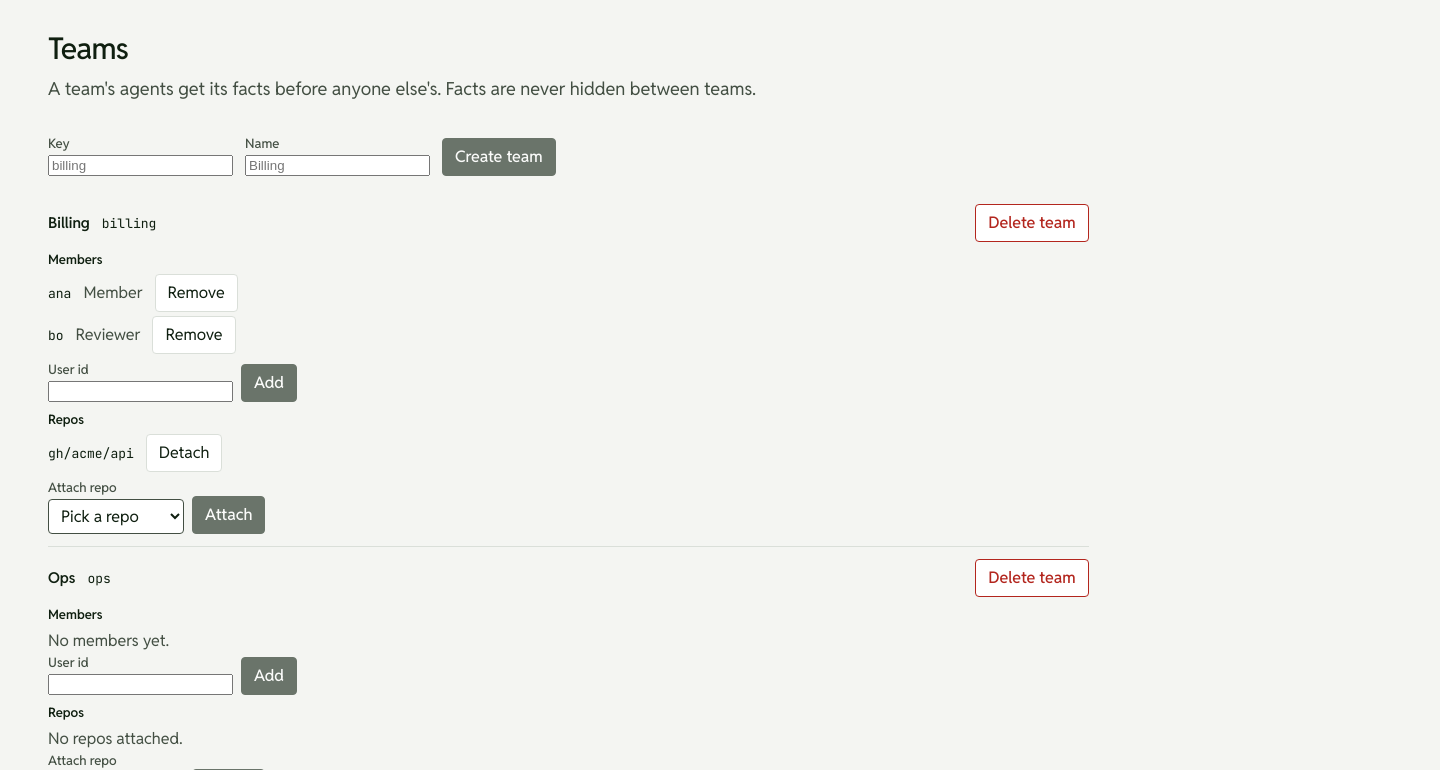
it: teams page › adds a member as a member
Expected: the heading "Billing" is shown, [48,212,90,234]
Type "cy@x" into the field labelled "User id" below "No members yet." at (140, 684), box [48,674,233,695]
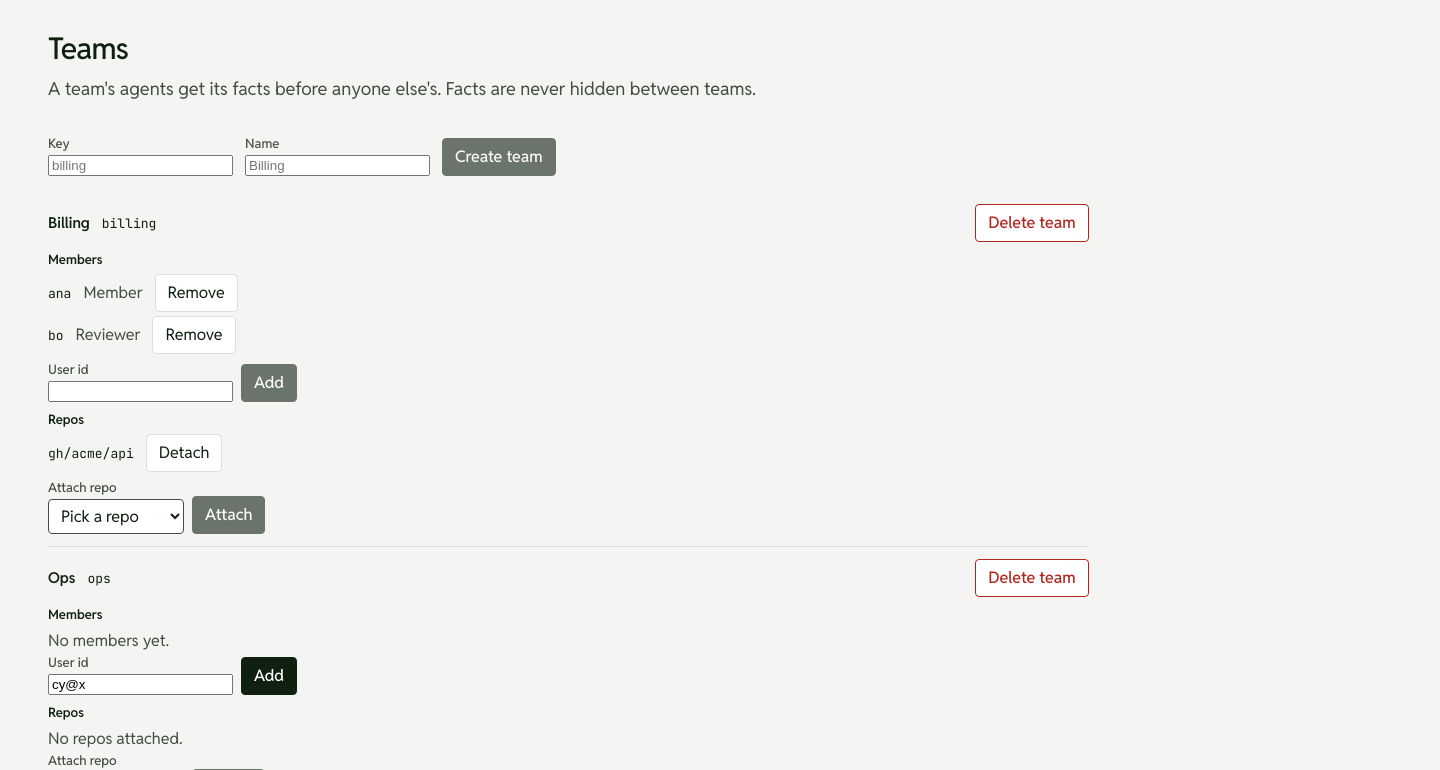
Click the button "Add" below "No members yet." at (269, 676), box [241,657,297,695]
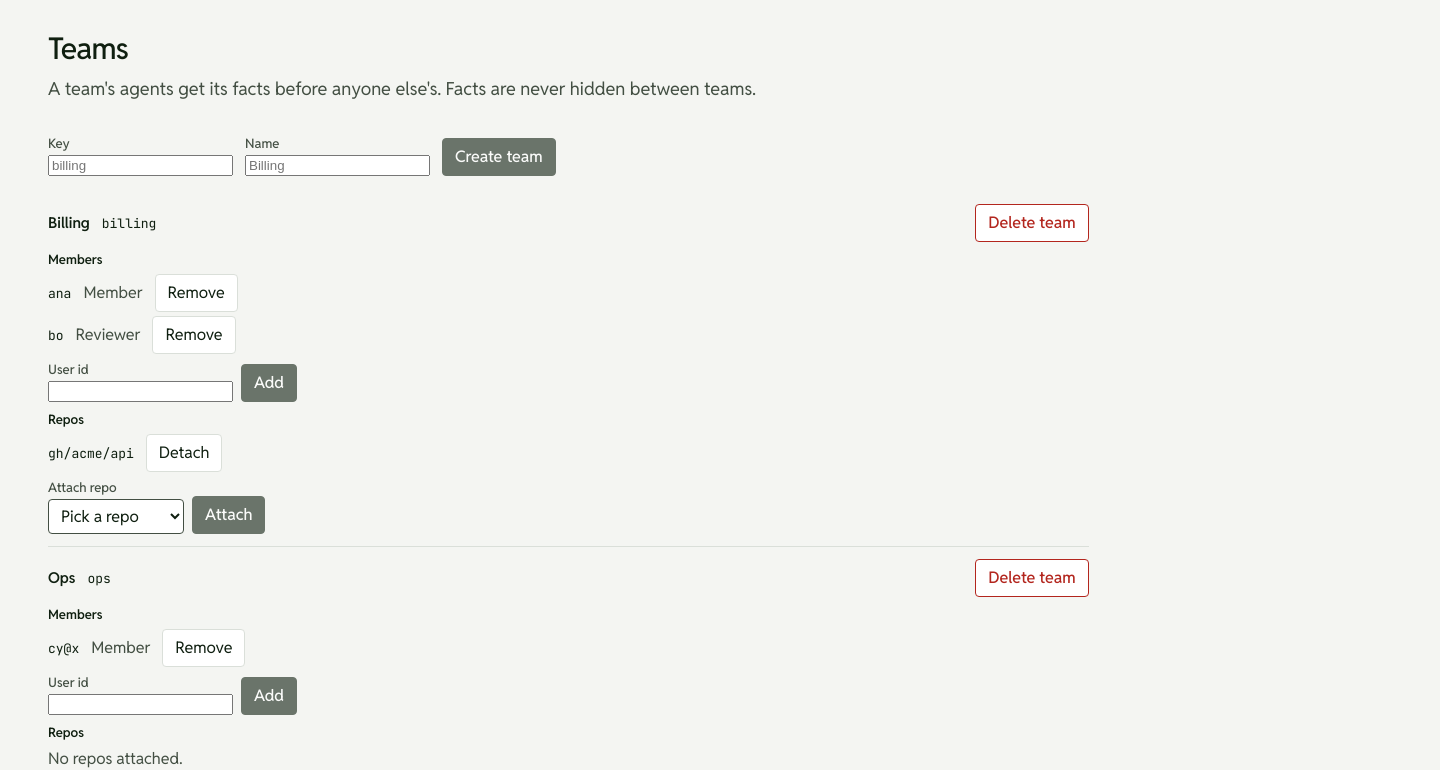
Expected: the text "cy@x" is shown, [48,640,79,656]
